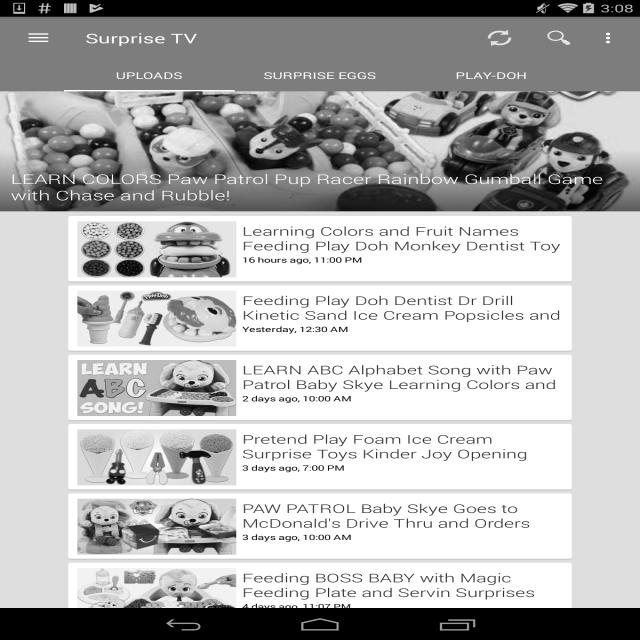ImageButton: (9, 17, 68, 59)
ImageView: (0, 92, 640, 212), (77, 222, 237, 278), (77, 290, 237, 346), (77, 360, 237, 416), (77, 430, 237, 486), (77, 498, 237, 554), (77, 568, 237, 624), (589, 22, 631, 54)
TextView: (0, 150, 640, 211), (237, 221, 563, 254), (237, 360, 563, 393), (237, 429, 563, 462), (237, 568, 563, 601), (237, 291, 563, 323), (237, 499, 563, 531), (237, 254, 563, 265), (237, 323, 563, 334), (237, 462, 563, 473), (237, 531, 563, 542), (237, 393, 563, 403), (237, 601, 563, 611), (85, 29, 198, 47), (469, 22, 529, 54), (529, 22, 589, 54), (263, 69, 376, 82), (455, 69, 526, 82), (116, 69, 182, 82)
